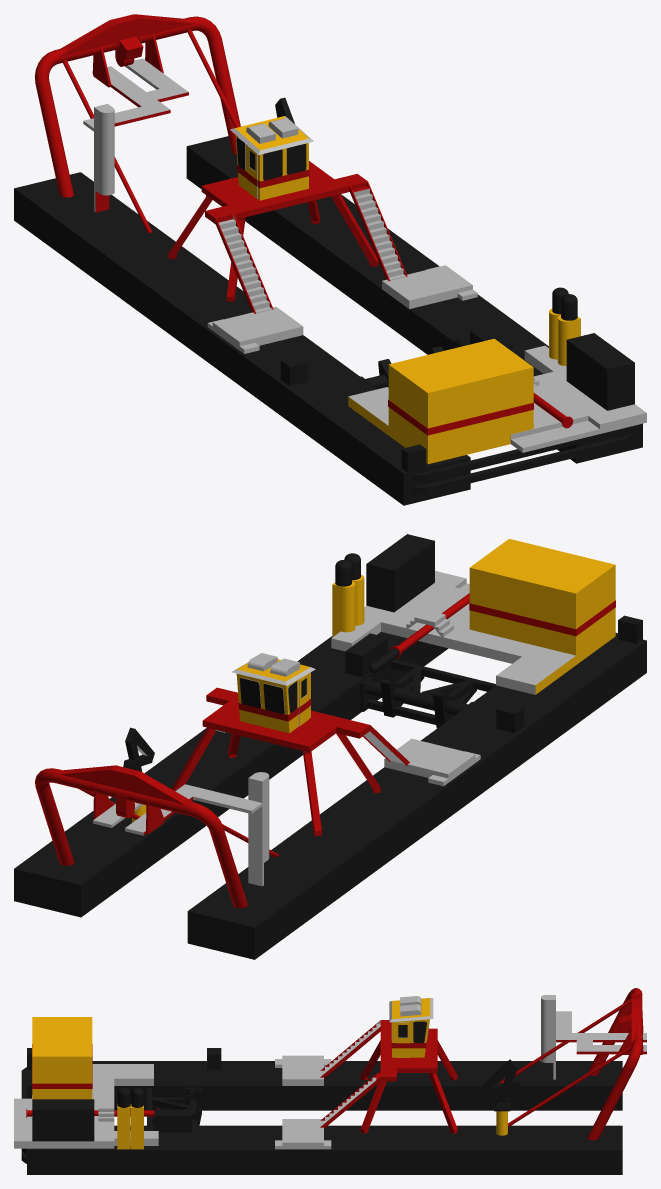
Rendered from Silvi Hull.obj.
3 renders of one model, top to bottom at view 1: azimuth 30°, elevation 25°; view 2: azimuth 150°, elevation 25°; view 3: azimuth 270°, elevation 25°, orthographic. The views are drawn at different scales.
Visible parts, largest first — view 1: Mesh2 Component_2 silvihull3_dwg1 Model, Mesh17 Component_13 silvihull3_dwg1 Model, Mesh18 Component_14 silvihull3_dwg1 Model, Mesh14 Component_11 silvihull3_dwg1 Model, Mesh15 Component_11 silvihull3_dwg1 Model, Mesh4 Component_3 silvihull3_dwg1 Model, Mesh20 Component_16 silvihull3_dwg1 Model; view 2: Mesh2 Component_2 silvihull3_dwg1 Model, Mesh17 Component_13 silvihull3_dwg1 Model, Mesh18 Component_14 silvihull3_dwg1 Model, Mesh14 Component_11 silvihull3_dwg1 Model, Mesh19 Component_15 silvihull3_dwg1 Model, Mesh15 Component_11 silvihull3_dwg1 Model, Mesh13 Component_10 silvihull3_dwg1 Model, Mesh3 Component_3 silvihull3_dwg1 Model, Mesh20 Component_16 silvihull3_dwg1 Model, Mesh16 Component_12 silvihull3_dwg1 Model; view 3: Mesh2 Component_2 silvihull3_dwg1 Model, Mesh17 Component_13 silvihull3_dwg1 Model, Mesh18 Component_14 silvihull3_dwg1 Model, Mesh14 Component_11 silvihull3_dwg1 Model, Mesh13 Component_10 silvihull3_dwg1 Model, Mesh19 Component_15 silvihull3_dwg1 Model, Mesh15 Component_11 silvihull3_dwg1 Model, Mesh11 Component_8 silvihull3_dwg1 Model, Mesh20 Component_16 silvihull3_dwg1 Model.
Part boxes in pixels (x1,y1,x2,y2): Mesh2 Component_2 silvihull3_dwg1 Model: [14, 136, 642, 505]; Mesh17 Component_13 silvihull3_dwg1 Model: [348, 287, 646, 464]; Mesh18 Component_14 silvihull3_dwg1 Model: [168, 116, 477, 353]; Mesh14 Component_11 silvihull3_dwg1 Model: [34, 14, 240, 232]; Mesh15 Component_11 silvihull3_dwg1 Model: [35, 81, 73, 197]; Mesh4 Component_3 silvihull3_dwg1 Model: [428, 402, 533, 435]; Mesh20 Component_16 silvihull3_dwg1 Model: [280, 356, 308, 386]; Mesh2 Component_2 silvihull3_dwg1 Model: [14, 632, 646, 959]; Mesh17 Component_13 silvihull3_dwg1 Model: [331, 534, 615, 694]; Mesh18 Component_14 silvihull3_dwg1 Model: [172, 653, 480, 836]; Mesh14 Component_11 silvihull3_dwg1 Model: [35, 765, 278, 886]; Mesh19 Component_15 silvihull3_dwg1 Model: [345, 633, 387, 677]; Mesh15 Component_11 silvihull3_dwg1 Model: [209, 827, 247, 908]; Mesh13 Component_10 silvihull3_dwg1 Model: [123, 727, 154, 822]; Mesh3 Component_3 silvihull3_dwg1 Model: [469, 603, 575, 636]; Mesh20 Component_16 silvihull3_dwg1 Model: [496, 702, 524, 733]; Mesh16 Component_12 silvihull3_dwg1 Model: [618, 615, 642, 643]; Mesh2 Component_2 silvihull3_dwg1 Model: [21, 1061, 622, 1174]; Mesh17 Component_13 silvihull3_dwg1 Model: [14, 1017, 158, 1149]; Mesh18 Component_14 silvihull3_dwg1 Model: [275, 996, 457, 1149]; Mesh14 Component_11 silvihull3_dwg1 Model: [500, 988, 646, 1140]; Mesh13 Component_10 silvihull3_dwg1 Model: [480, 1059, 521, 1135]; Mesh19 Component_15 silvihull3_dwg1 Model: [154, 1109, 192, 1132]; Mesh15 Component_11 silvihull3_dwg1 Model: [587, 1000, 631, 1075]; Mesh11 Component_8 silvihull3_dwg1 Model: [32, 1083, 92, 1088]; Mesh20 Component_16 silvihull3_dwg1 Model: [207, 1048, 221, 1069].
Size of the model in its own units: 468 by 311 by 1404.
